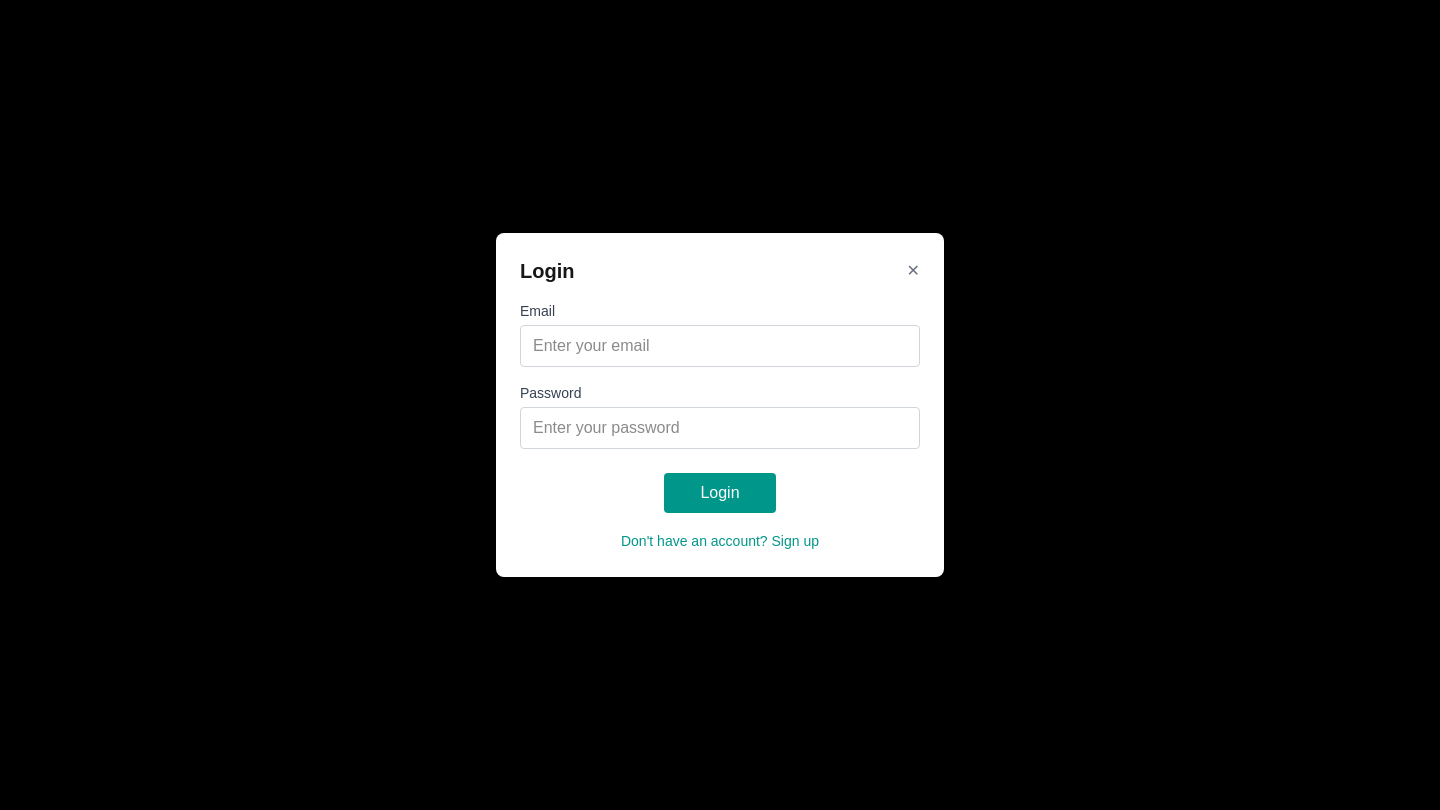
Test case: AuthModal › Login functionality › should handle network error during login
The width and height of the screenshot is (1440, 810).
Step 1. Type "test@example.com" into the field with placeholder "Enter your email" → (720, 346), box [520,325,920,367]
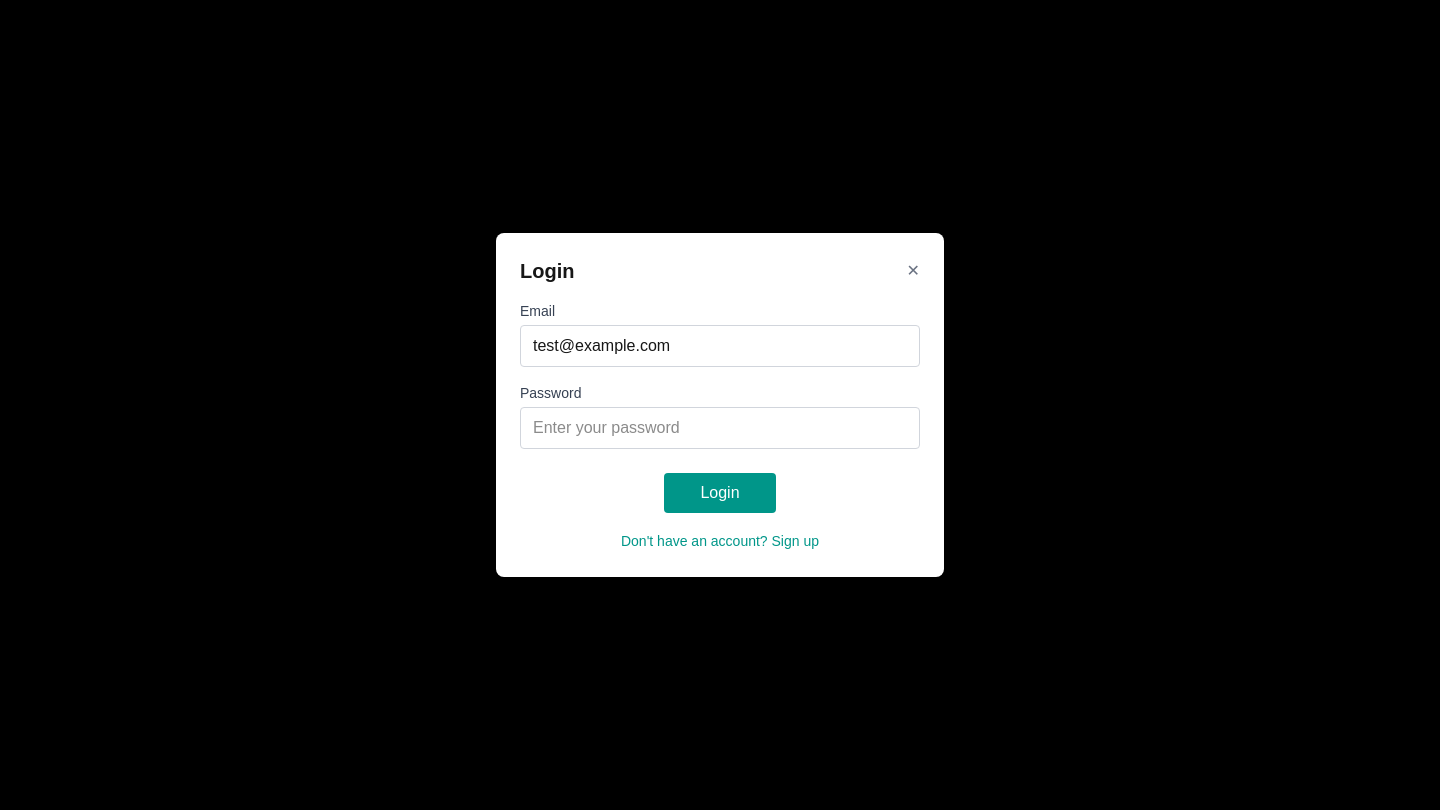
Step 2. Type "password123" into the password field with placeholder "Enter your password" → (720, 428), box [520,407,920,449]
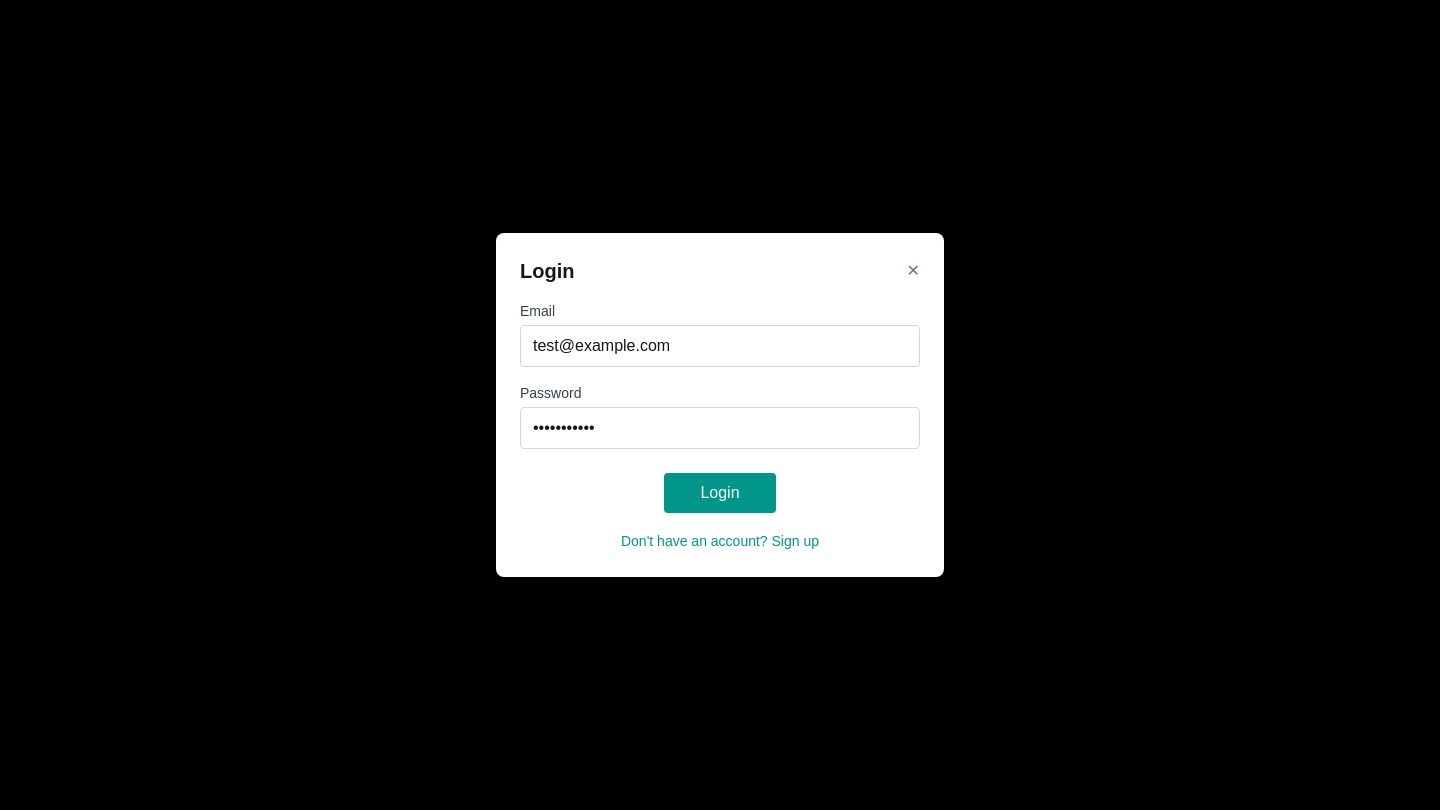
Step 3. Click the button "Login" → (720, 493), box [664,473,776,513]
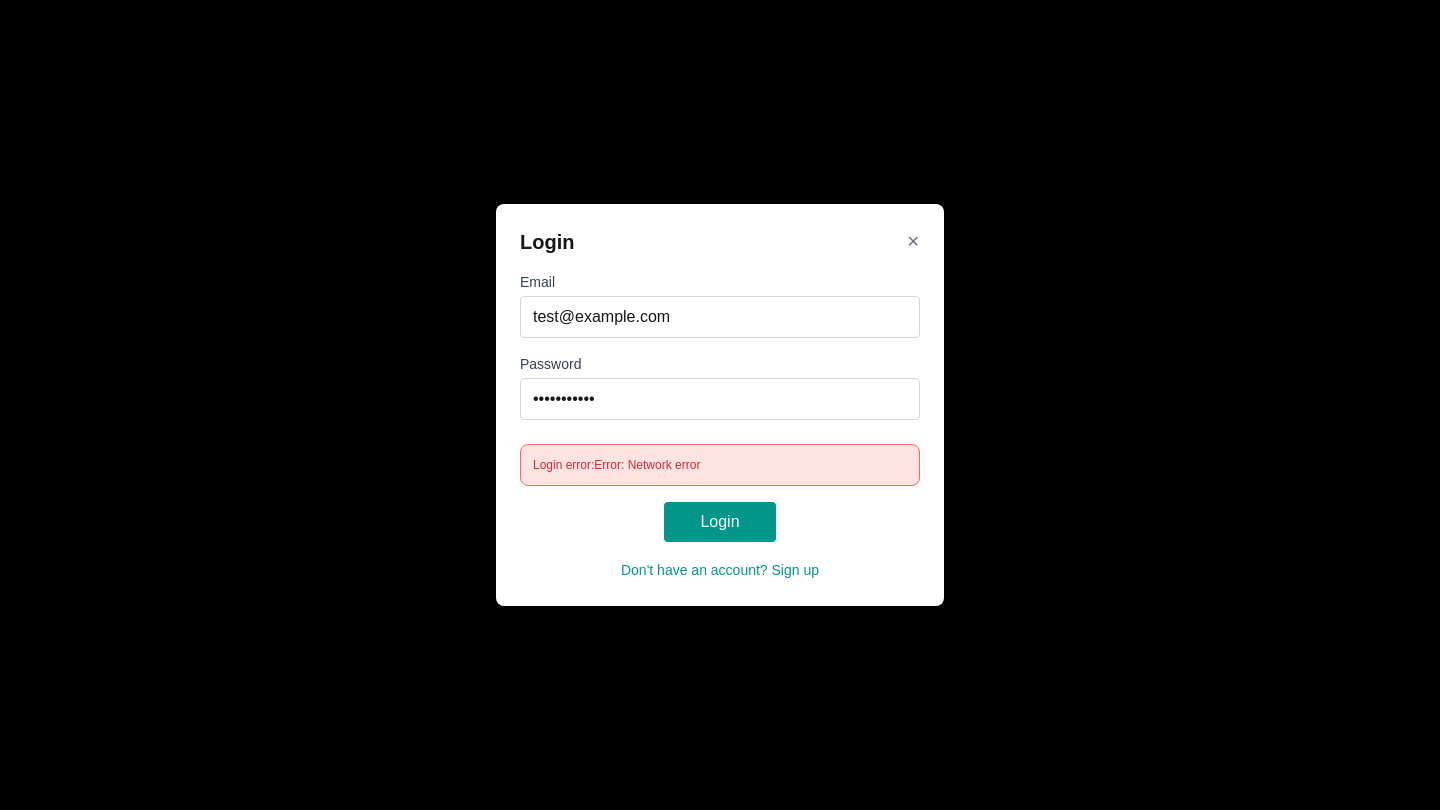
Expected: the text "Login error:Error: Network error" is shown, [520,444,920,486]
